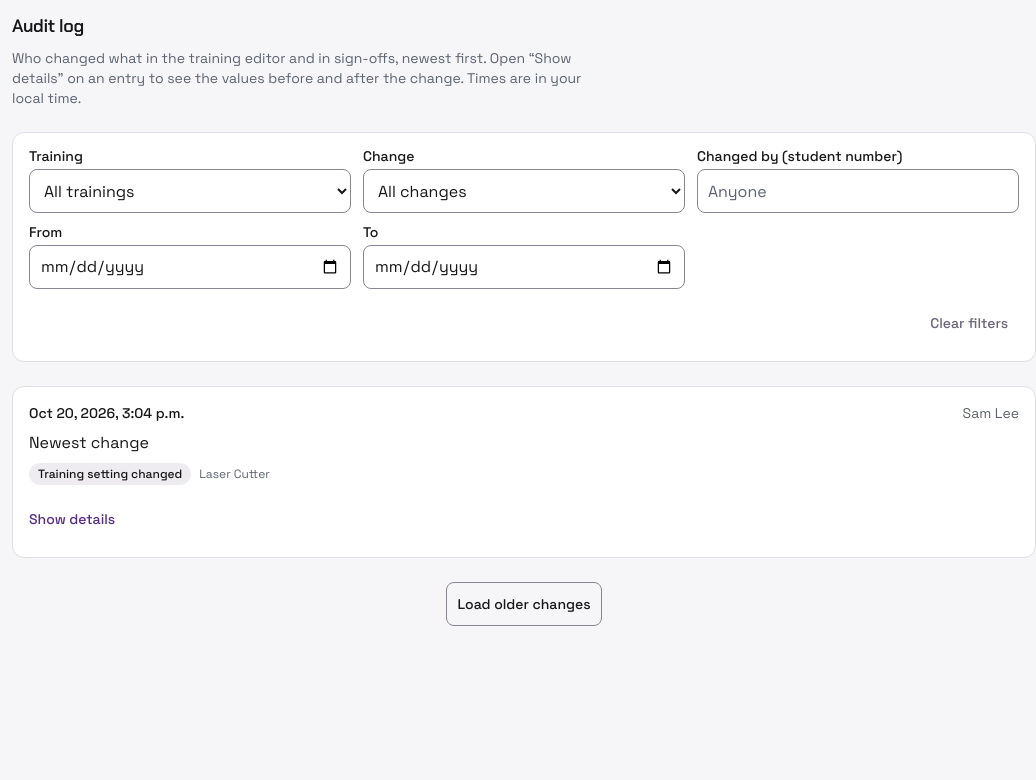
Test: TrainingAuditLog › adds the next page to the list, asking for the same snapshot time
This screenshot has width=1036, height=780.
Expected: the text "Newest change" is shown, top-left (29, 432), bottom-right (149, 453)
Click the button "Load older changes" at (524, 604), box top-left (446, 582), bottom-right (602, 626)
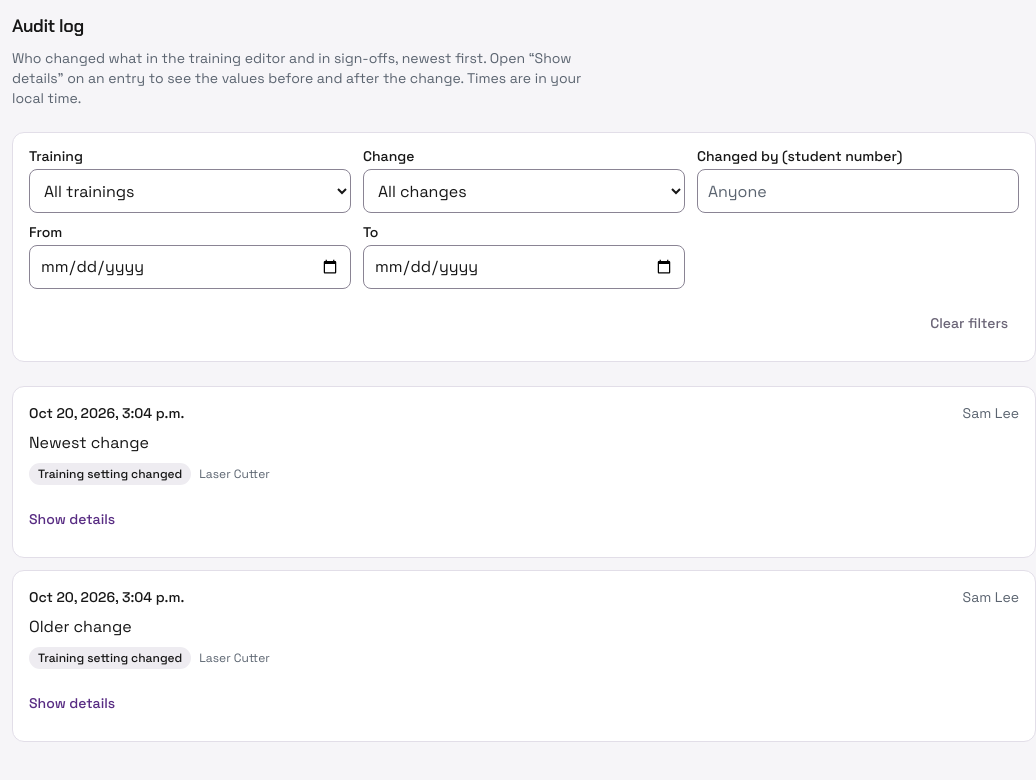
Expected: the text "Older change" is shown, top-left (29, 616), bottom-right (132, 637)
Now the button "Load older changes" is gone
